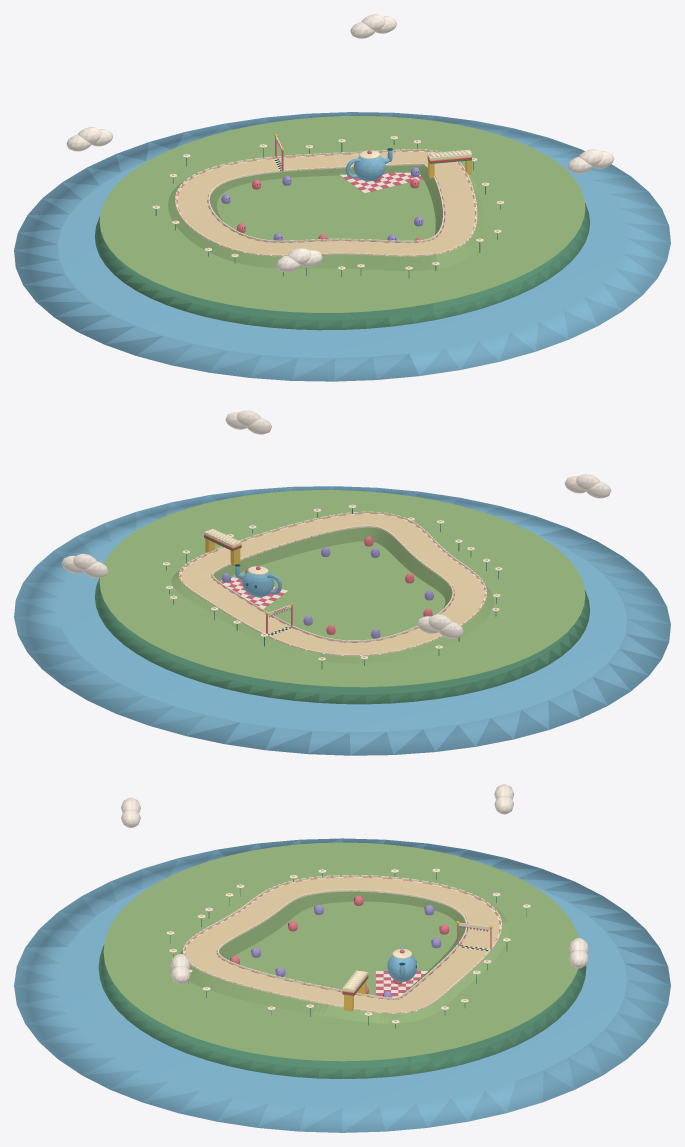
File: picnic.gltf
3 views of the same model, one above another, from view 1: azimuth 30°, elevation 25°; view 2: azimuth 150°, elevation 25°; view 3: azimuth 270°, elevation 25° (orthographic). The views are drawn at different scales.
Bounding box in the file's own units: 280 × 57.5 × 264.
Materials: 1 (1 with a texture image).
